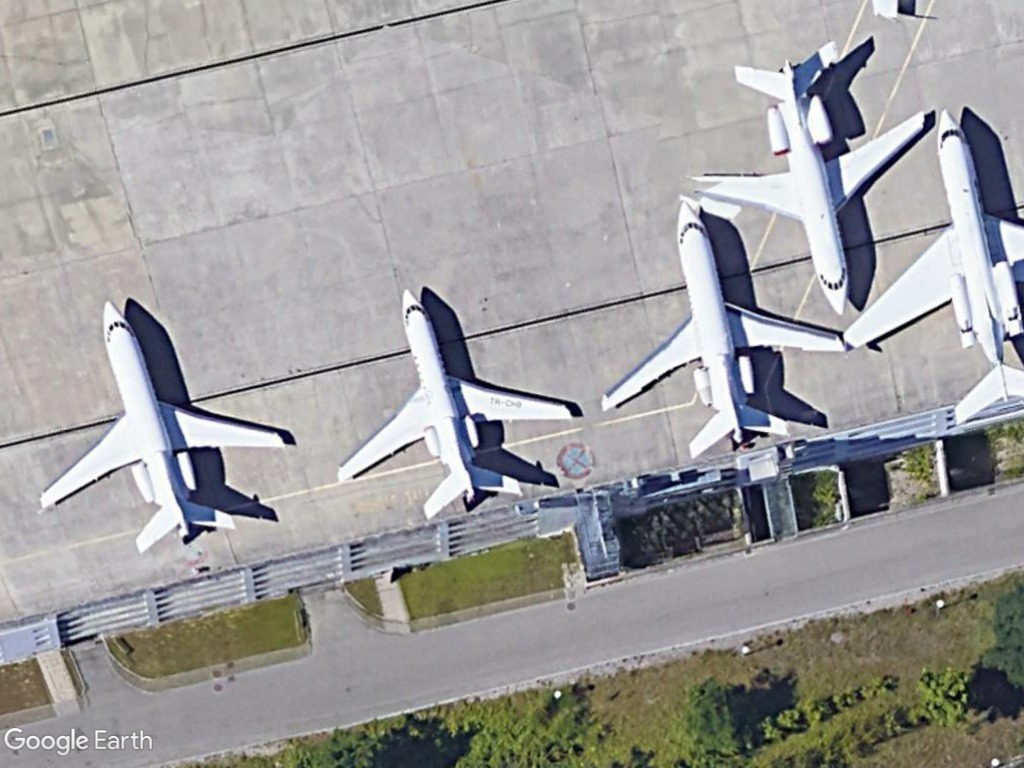chartered: (30, 293, 293, 559), (685, 38, 929, 321), (594, 196, 849, 456), (334, 284, 577, 523)
